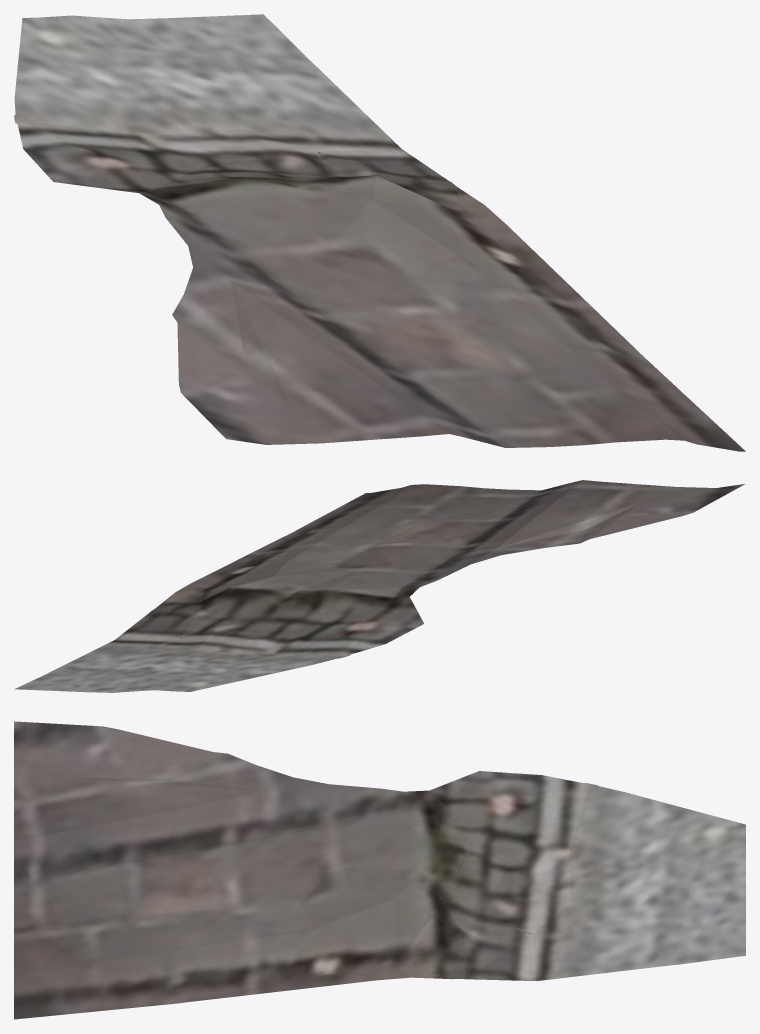
3 renders of one model, top to bottom at view 1: azimuth 30°, elevation 25°; view 2: azimuth 150°, elevation 25°; view 3: azimuth 270°, elevation 25°, orthographic. The views are drawn at different scales.
Size of the model in its own units: 1.04 by 0.2667 by 1.67.
Materials: 2 (2 with a texture image).
